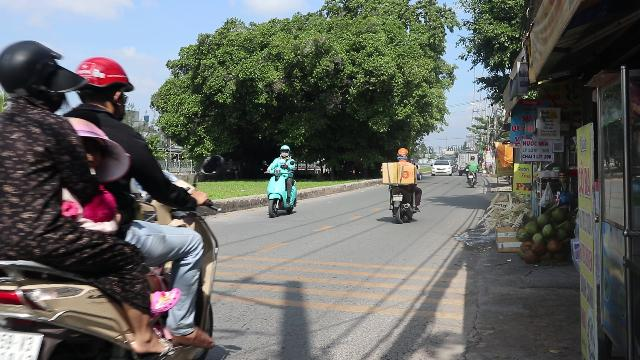helmet: (0, 38, 76, 110), (68, 56, 134, 120), (279, 144, 291, 158)
licenseplate: (0, 332, 40, 358)
motorcyclist: (1, 37, 228, 357), (263, 144, 299, 218)
